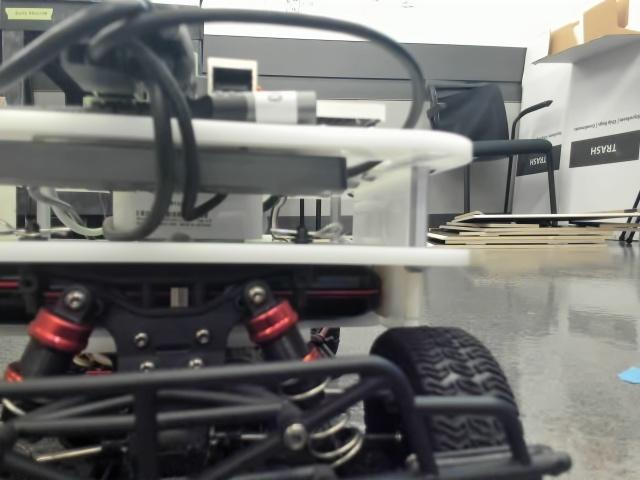Car: (1, 0, 474, 477)
